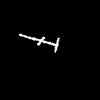double_crochet: (19, 34, 58, 51)
